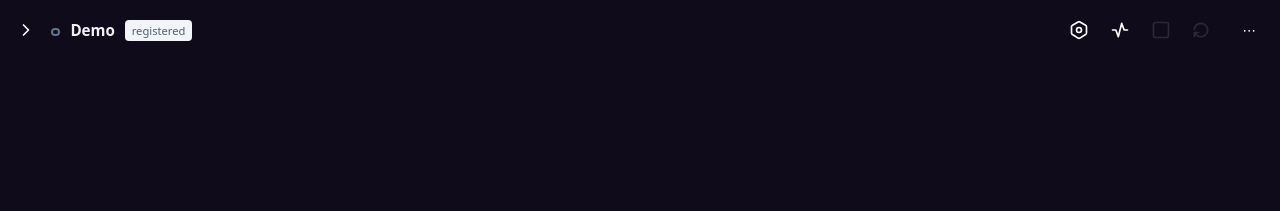
Scenario: registered project observations › disables stale observations from a different ready session
Click the button named "Expand Demo".
click(27, 30)  # box [13,17,41,44]
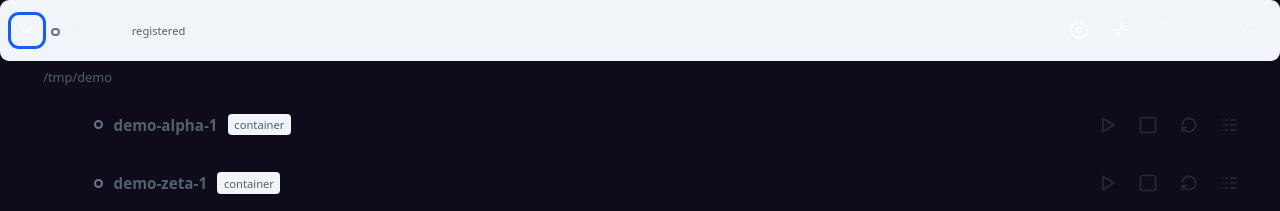
Result: the button named "Stop demo-alpha-1" is disabled at [1137,107,1173,143]
